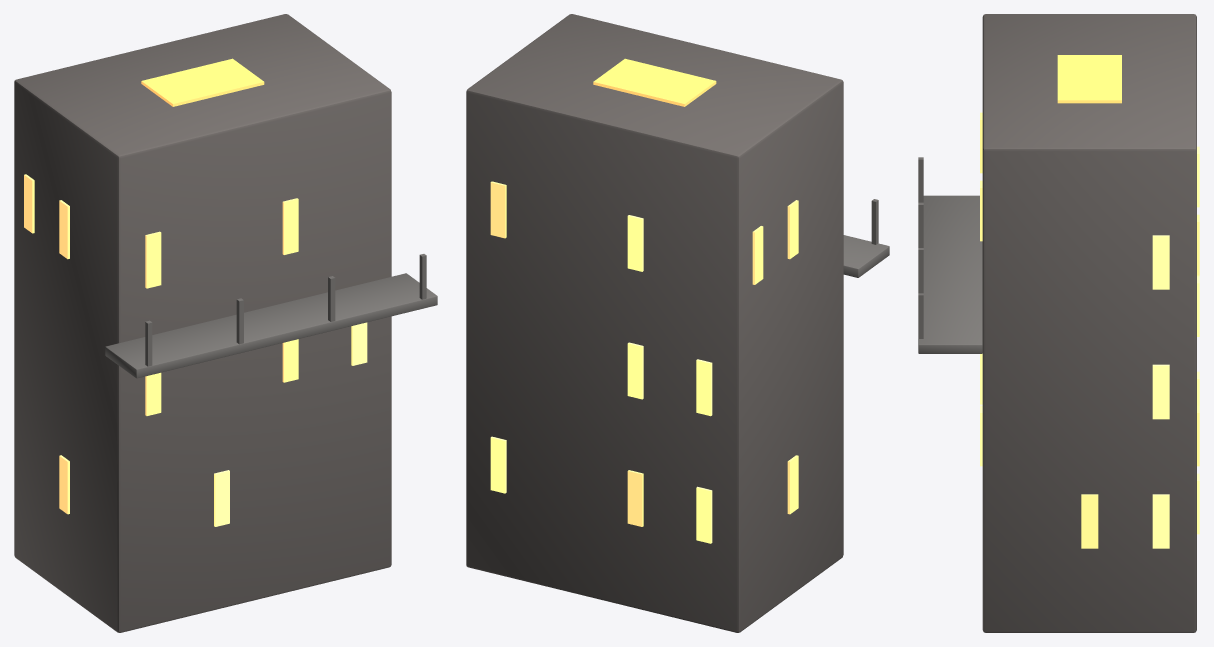
Rendered from SM_Area2_City_E.glb.
3 renders of one model, left to right at view 1: azimuth 30°, elevation 25°; view 2: azimuth 150°, elevation 25°; view 3: azimuth 270°, elevation 25°, orthographic.
Visible parts, largest first — view 1: SM_Area2_City_E; view 2: SM_Area2_City_E; view 3: SM_Area2_City_E.
Boxes of the visible parts, x1,y1,x2,y2 form: SM_Area2_City_E: (14, 14, 437, 632); SM_Area2_City_E: (466, 14, 889, 632); SM_Area2_City_E: (918, 14, 1199, 632).
Size of the model in its own units: 6.6 by 10.06 by 5.25.
